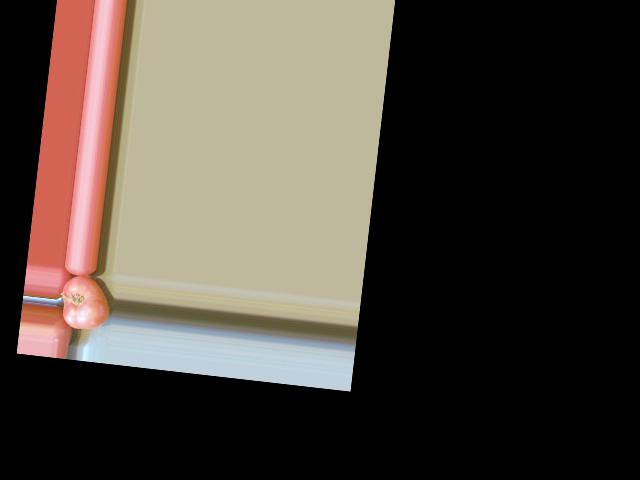tomato: (59, 274, 113, 331)
